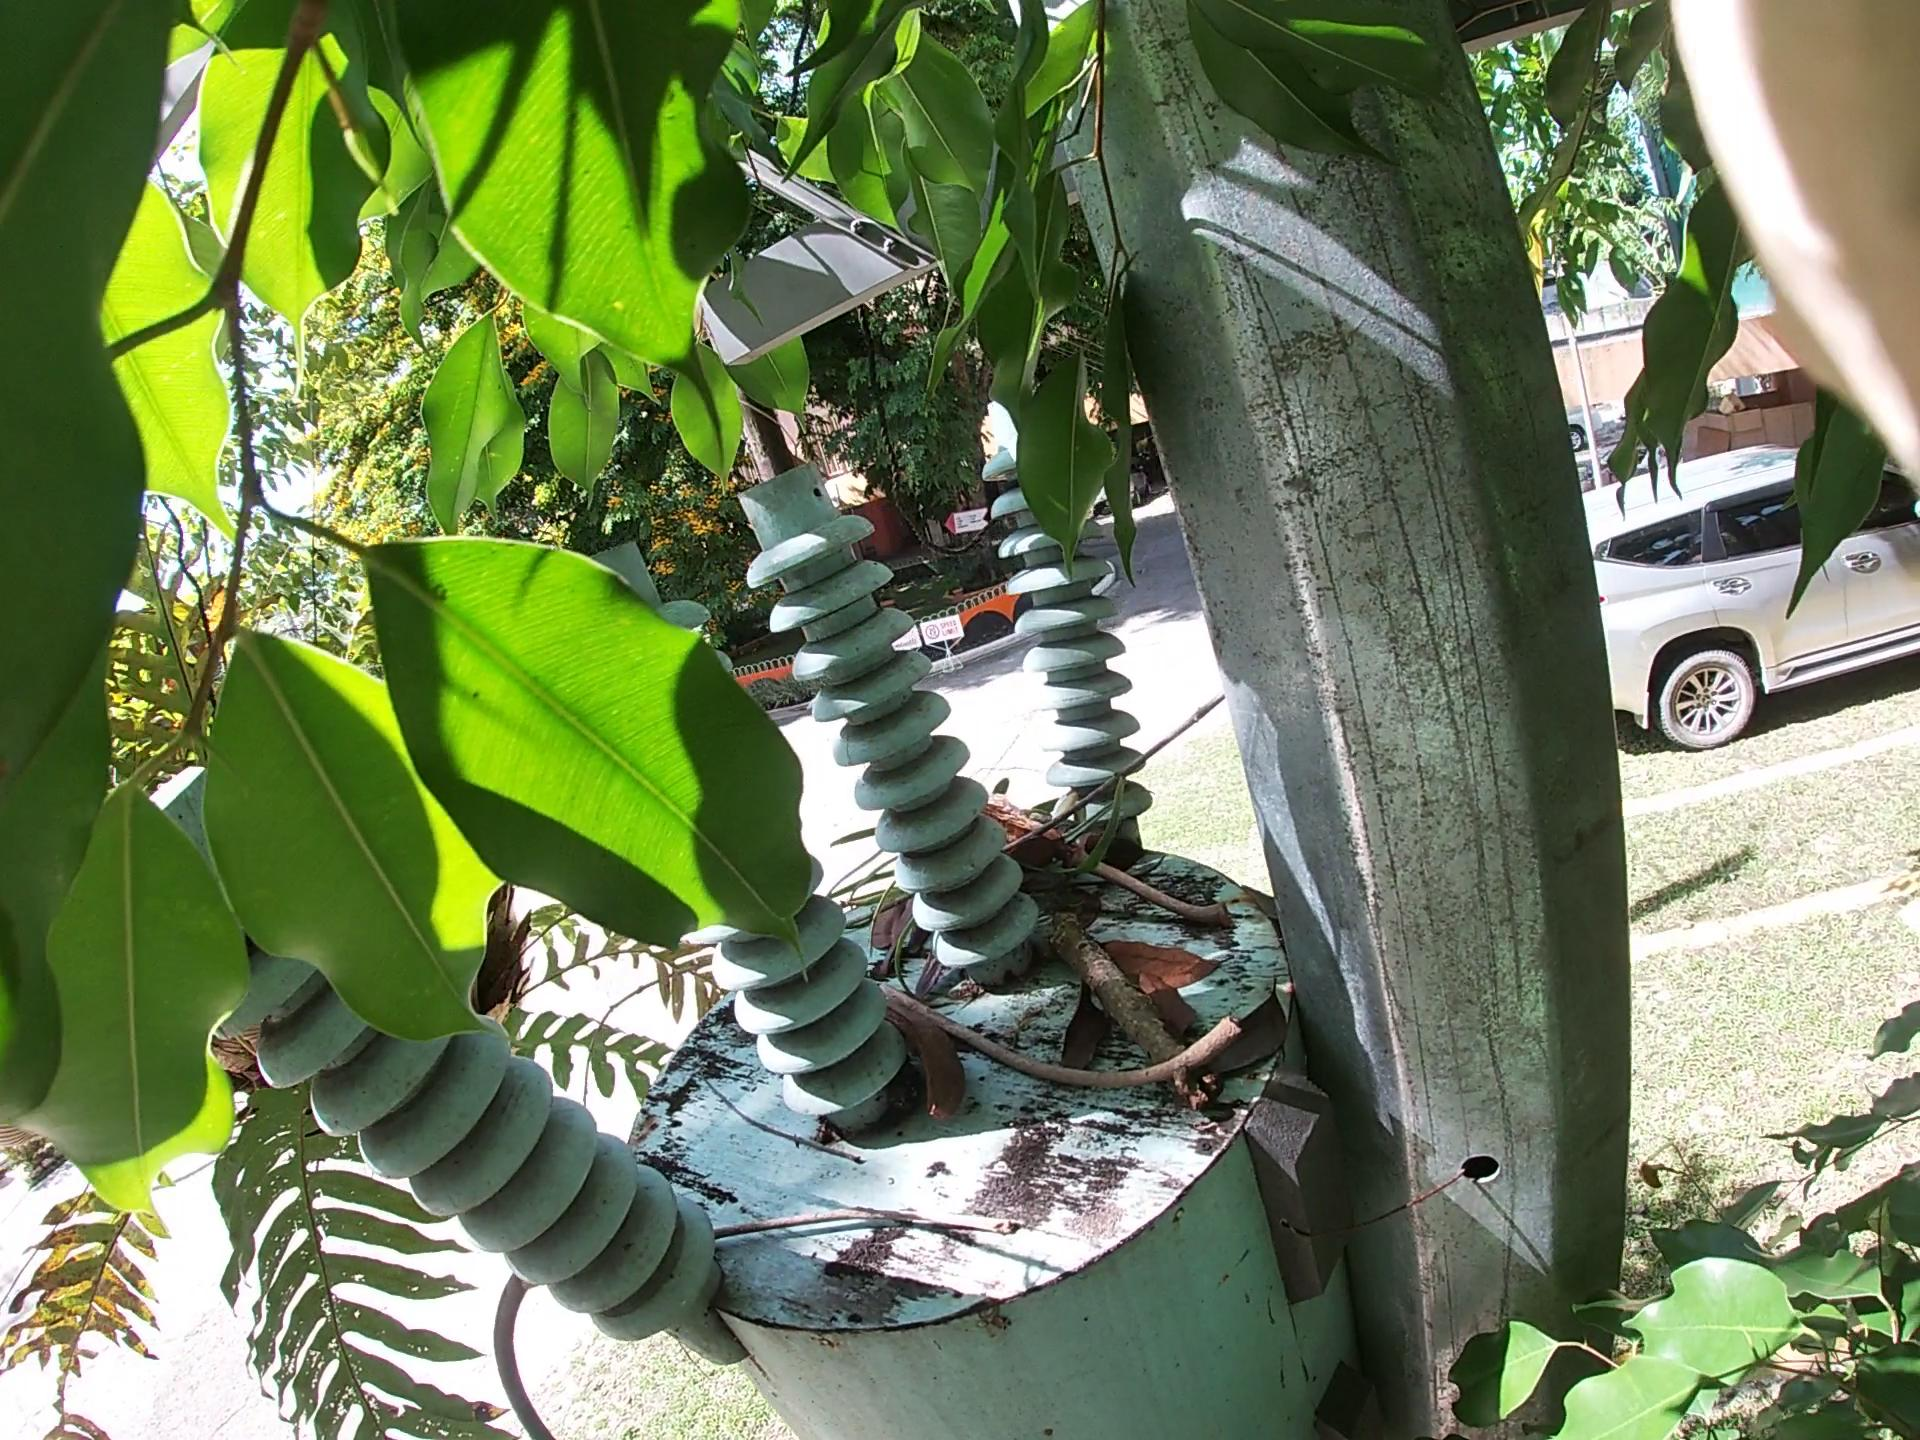leaf: (1061, 924, 1197, 1063)
tree branch: (986, 855, 1232, 1189), (605, 1166, 1137, 1251), (906, 971, 1234, 1104), (1028, 768, 1243, 936)
